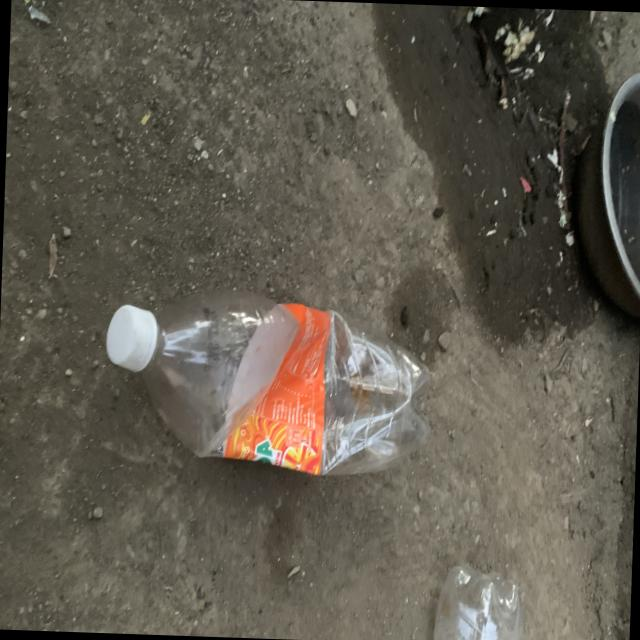Bottle: (107, 290, 429, 473)
